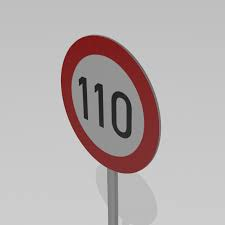Speed_limit_110km: (60, 34, 161, 175)
